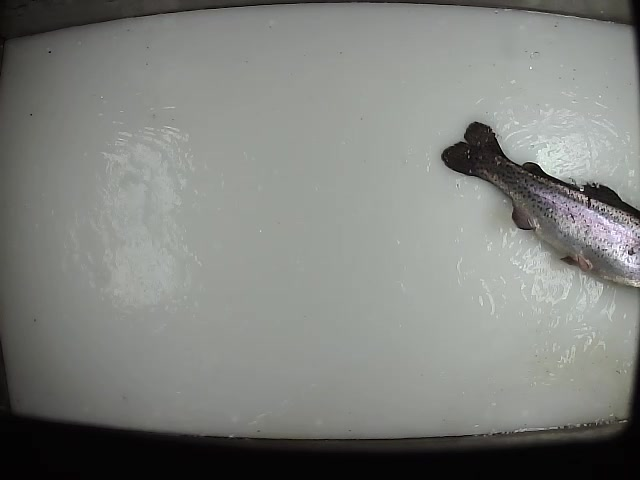fish: (437, 114, 640, 297)
